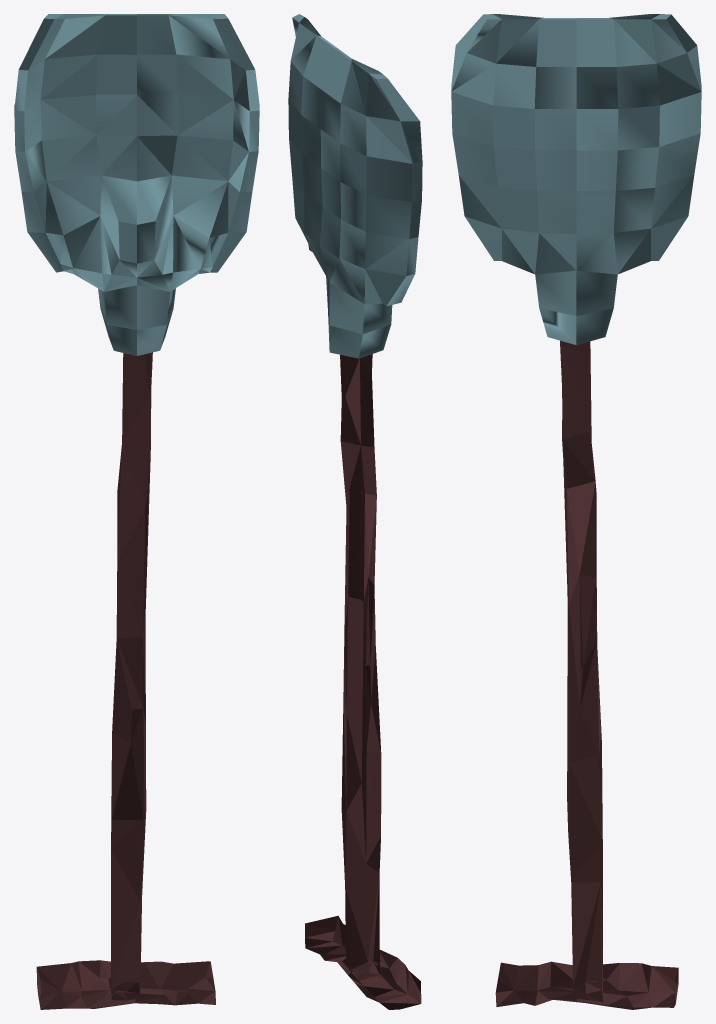
File: ShovelAsset.fbx
The picture shows the model from 3 angles, left to right: view 1: azimuth 90°, elevation 25°; view 2: azimuth 210°, elevation 25°; view 3: azimuth 270°, elevation 25°; orthographic projection. The views are drawn at different scales.
Parts seen in each view (by area): view 1: Shovel; view 2: Shovel; view 3: Shovel.
Boxes of the visible parts, x1,y1,x2,y2 form: Shovel: (14, 14, 259, 1009); Shovel: (288, 14, 422, 1009); Shovel: (451, 14, 701, 1009).
Size of the model in its own units: 48.09 by 629 by 143.
